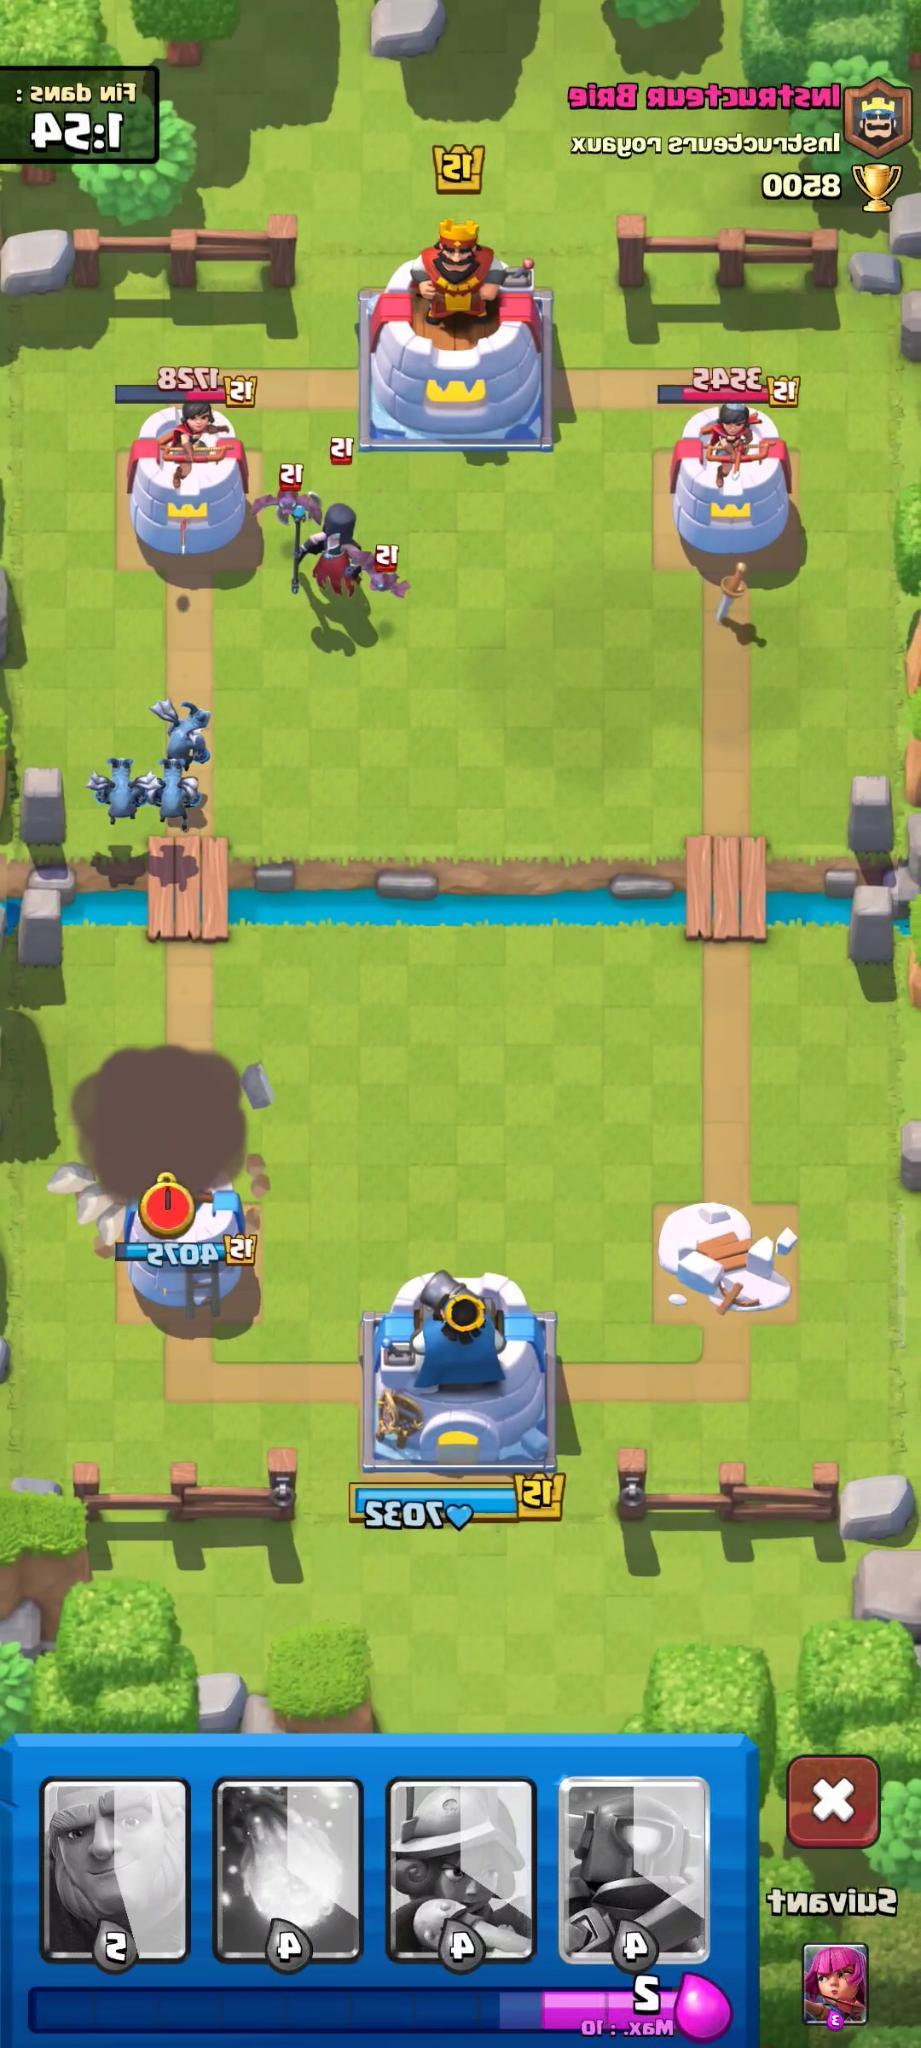enemy_bats: (265, 462, 313, 531), (364, 546, 414, 605)
enemy_night_witch: (285, 446, 371, 614)
player_minions: (145, 691, 214, 763), (84, 753, 152, 824), (148, 759, 209, 828)
